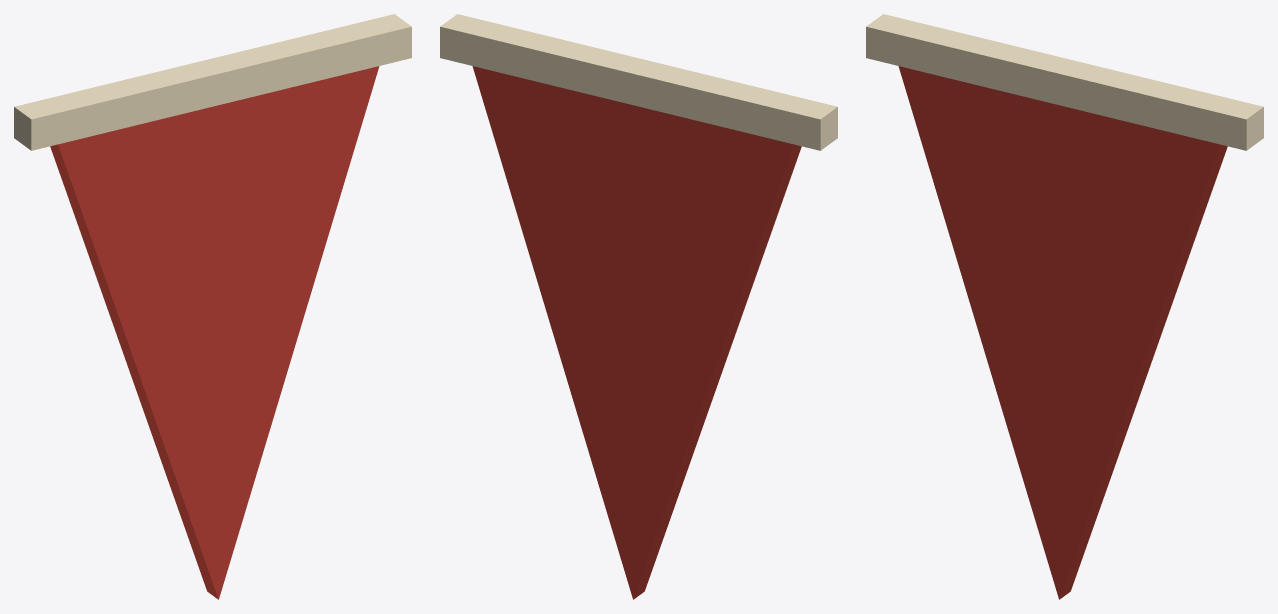
The model's file is rt_pennant_c.glb.
The picture shows the model from 3 angles, left to right: view 1: azimuth 30°, elevation 25°; view 2: azimuth 150°, elevation 25°; view 3: azimuth 330°, elevation 25°; orthographic projection.
Parts seen in each view (by area): view 1: rt_pennant_c_body; view 2: rt_pennant_c_body; view 3: rt_pennant_c_body.
Part boxes in pixels (box(x1,y1,x2,y2)): rt_pennant_c_body: box(14, 14, 411, 599); rt_pennant_c_body: box(440, 14, 837, 599); rt_pennant_c_body: box(866, 14, 1263, 599).
Size of the model in its own units: 0.38 by 0.505 by 0.03.
